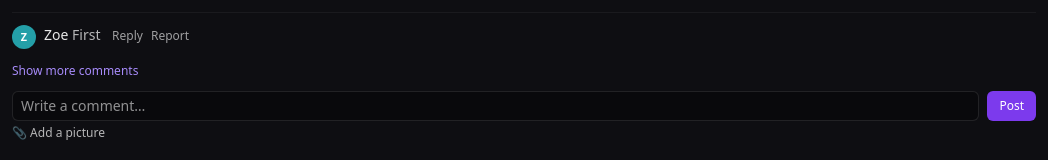
Scenario: BlogComments › shows more comments after the last one, until there are no more
Click the button "Show more comments".
click(75, 71)  # box [12, 63, 138, 79]
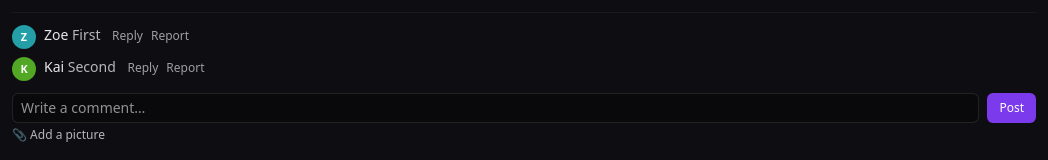
Expected: the text "Second" is shown, [68, 57, 116, 76]
Expected: the button "Show more comments" is gone
